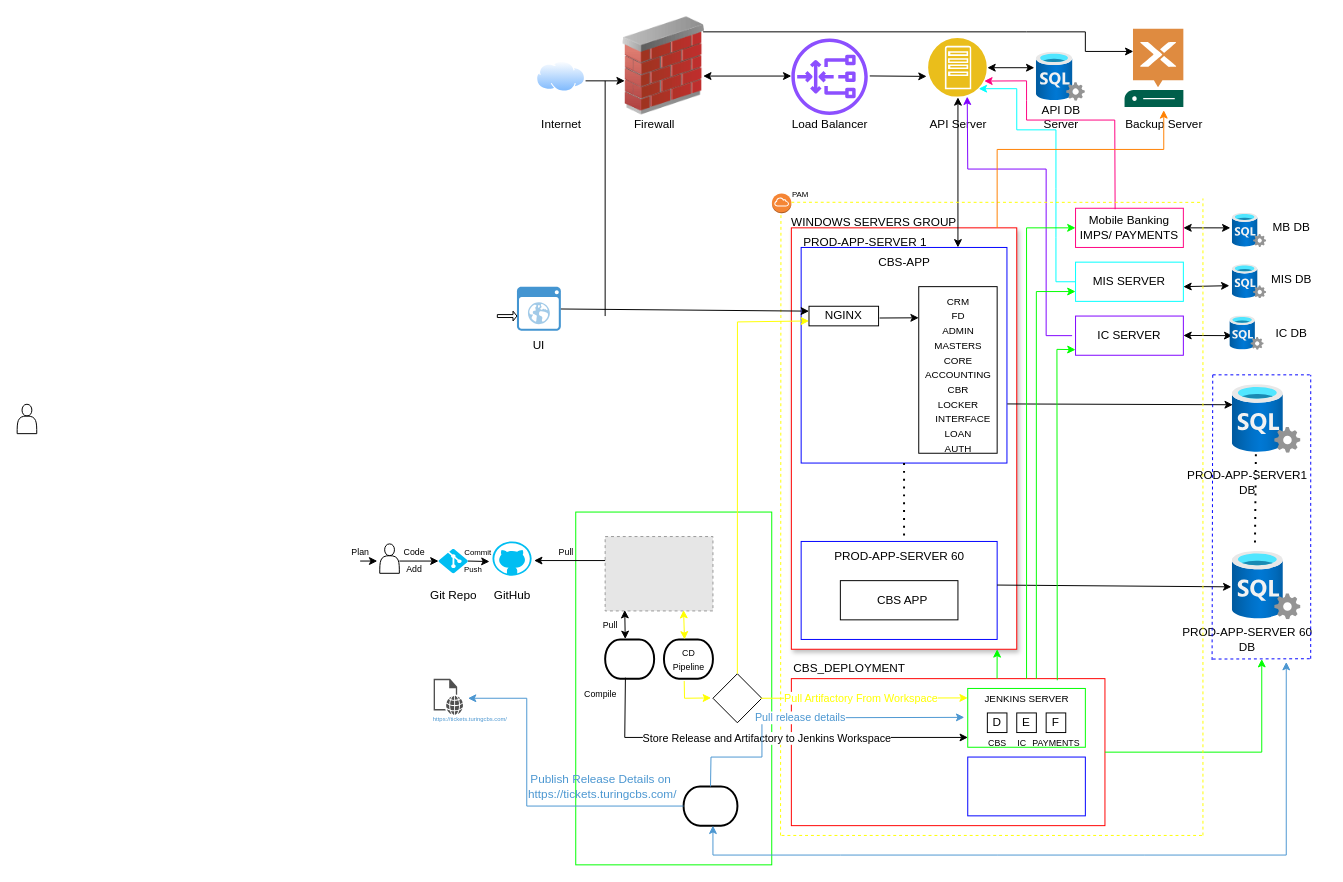
The diagram is 1343 pixels wide and 882 high, and some of its shapes have lost their labels. Grey dashed boxes stand in for pictures. The centre of each missing label's shape, as x and y in pixels:
"CI Pipeline" belongs at [629,658].
"Deploy" belongs at [737,698].
"PROMETHEUS SERVER" belongs at [1026,786].
"Ticket Job" belongs at [710,805].
